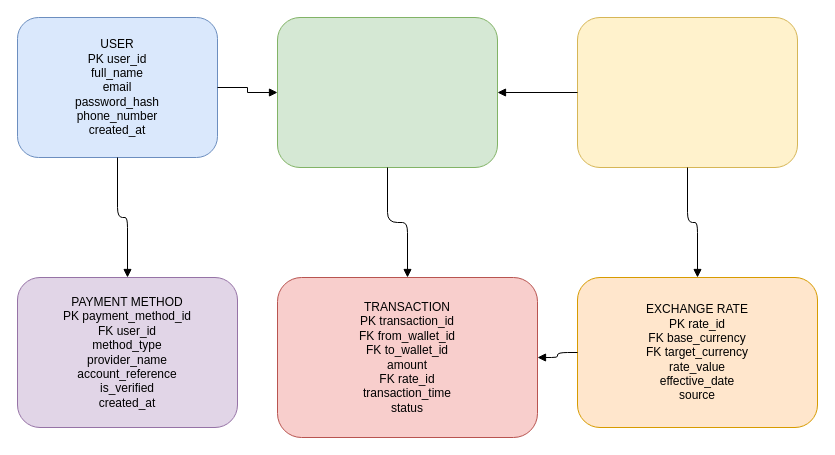
Some shapes in this 835 by 455 pixel diagram are drawn without their labels. Here are the shapes that lost their labels. From the top down, the centre of each, then its label:
pixel 387 92: WALLET PK wallet_id FK user_id FK currency_code balance status created_at
pixel 687 92: CURRENCY PK currency_code currency_name symbol country decimal_places is_active
